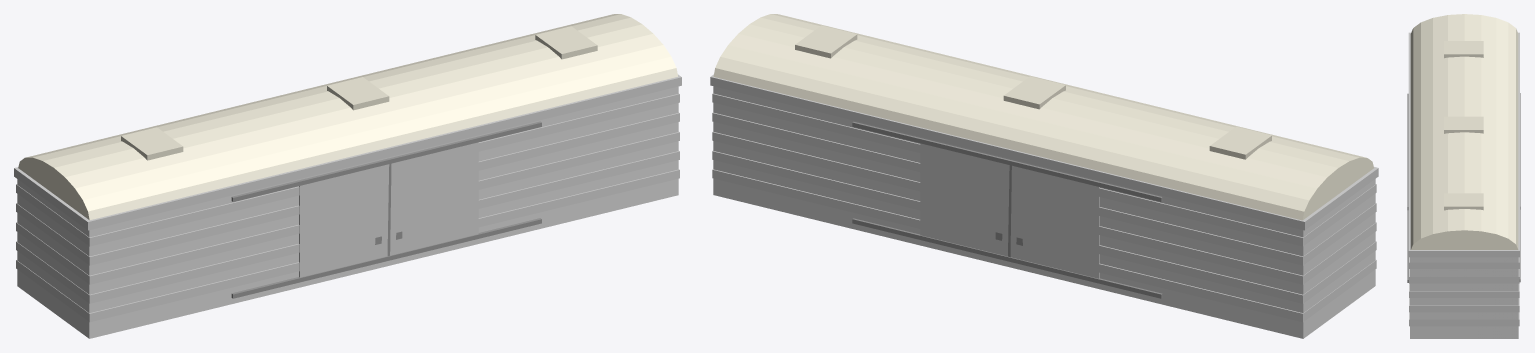
Rendered from props39.fbx.
3 views of the same model, side by side, from view 1: azimuth 30°, elevation 25°; view 2: azimuth 150°, elevation 25°; view 3: azimuth 270°, elevation 25° (orthographic). The views are drawn at different scales.
Visible parts, largest first — view 1: Cube; view 2: Cube; view 3: Cube.
Part boxes in pixels (bbox=[...]): Cube: bbox=[14, 14, 681, 338]; Cube: bbox=[710, 14, 1378, 338]; Cube: bbox=[1407, 14, 1520, 338].
Size of the model in its own units: 1540 by 365 by 337.
